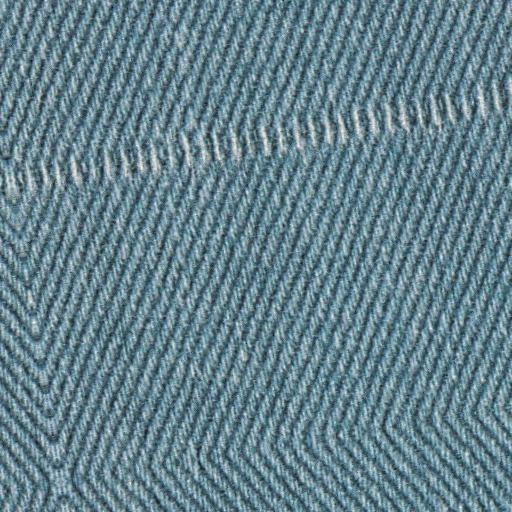slub: (1, 71, 512, 214)
